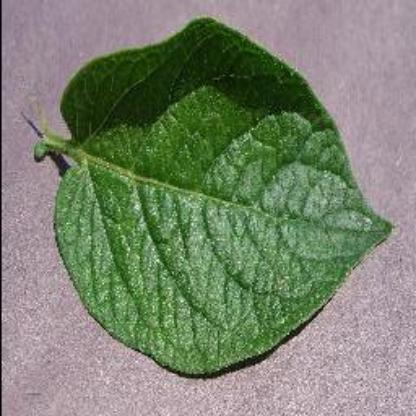Healthy-plant: (42, 13, 390, 376)
